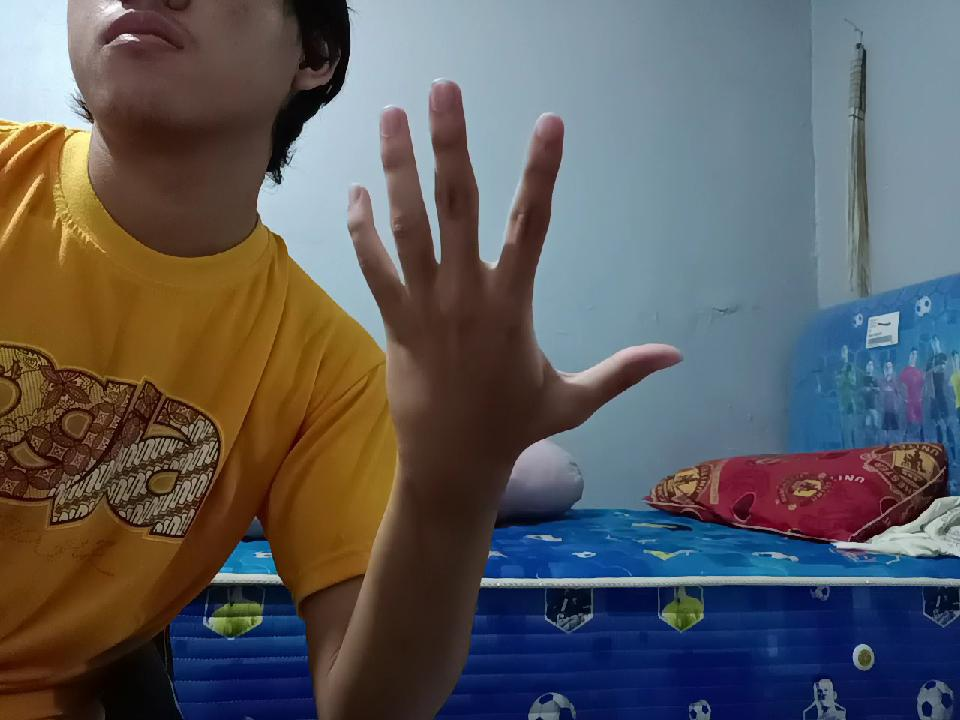paper: (347, 82, 655, 494)
